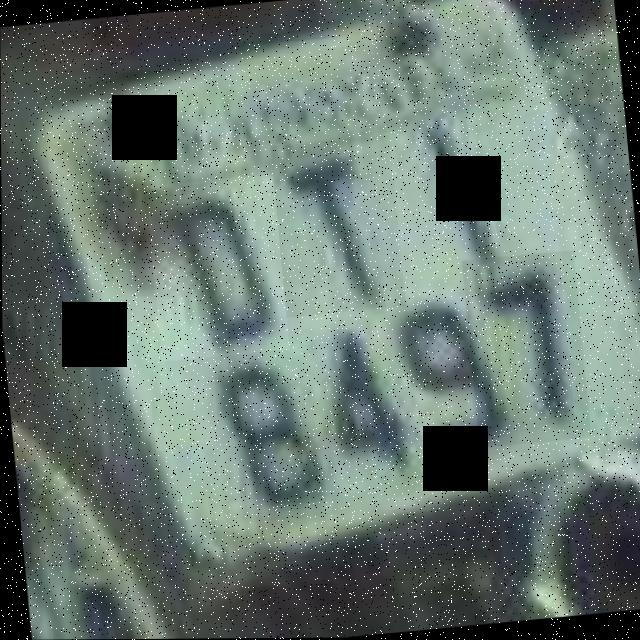4: (292, 302, 422, 504)
7: (461, 251, 590, 448)
8: (192, 328, 336, 525)
9: (384, 282, 507, 467)
O: (145, 174, 289, 361)
T: (269, 135, 405, 318)
